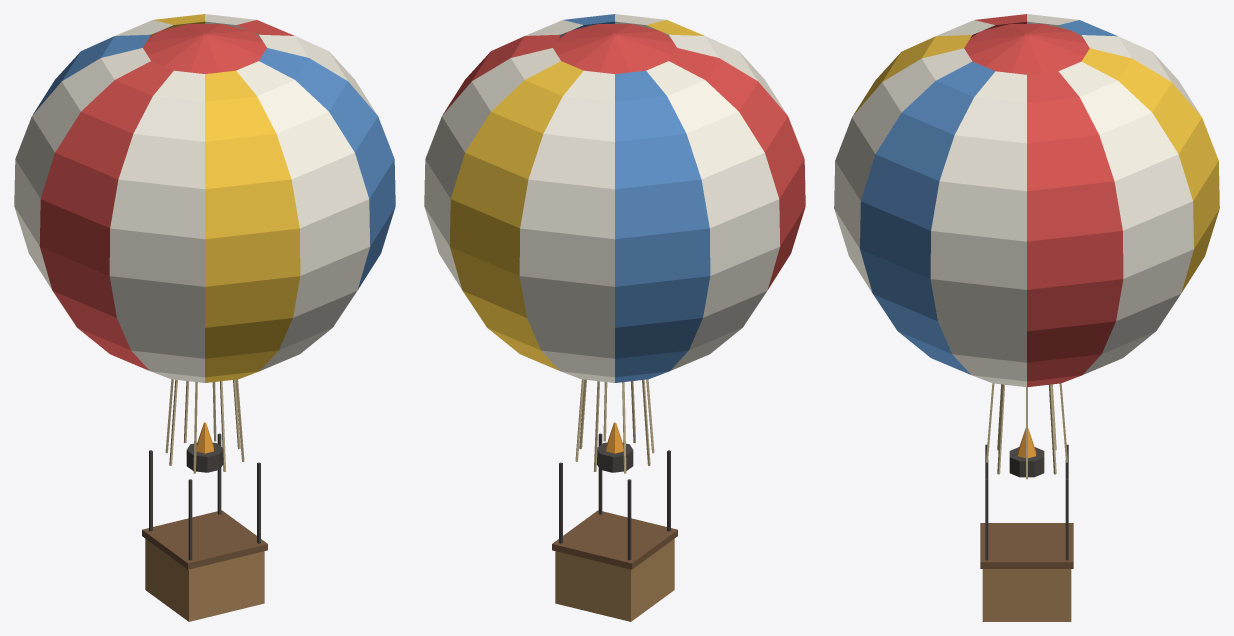
Rendered from balloon.glb.
3 renders of one model, left to right at view 1: azimuth 30°, elevation 25°; view 2: azimuth 150°, elevation 25°; view 3: azimuth 270°, elevation 25°, orthographic.
Parts seen in each view (by area): view 1: balloon-envelope-cream, balloon-envelope-yellow, balloon-envelope-red, balloon-envelope-blue, balloon-basket-wicker, balloon-basket-rim, balloon-basket-iron, balloon-envelope-rope; view 2: balloon-envelope-cream, balloon-envelope-blue, balloon-envelope-yellow, balloon-envelope-red, balloon-basket-wicker, balloon-basket-rim, balloon-basket-iron, balloon-envelope-rope; view 3: balloon-envelope-cream, balloon-envelope-red, balloon-envelope-blue, balloon-envelope-yellow, balloon-basket-wicker, balloon-basket-rim, balloon-basket-iron, balloon-envelope-rope.
Boxes of the visible parts, x1,y1,x2,y2 form: balloon-envelope-cream: (14, 14, 376, 382); balloon-envelope-yellow: (149, 14, 300, 382); balloon-envelope-red: (39, 20, 294, 370); balloon-envelope-blue: (33, 34, 395, 289); balloon-basket-wicker: (145, 539, 264, 621); balloon-basket-rim: (142, 510, 267, 569); balloon-basket-iron: (149, 433, 260, 560); balloon-envelope-rope: (165, 379, 244, 473); balloon-envelope-cream: (424, 14, 786, 382); balloon-envelope-blue: (559, 14, 710, 382); balloon-envelope-yellow: (449, 20, 704, 370); balloon-envelope-red: (443, 24, 805, 289); balloon-basket-wicker: (555, 539, 674, 621); balloon-basket-rim: (552, 510, 677, 569); balloon-basket-iron: (559, 433, 670, 560); balloon-envelope-rope: (575, 379, 654, 473); balloon-envelope-cream: (834, 14, 1201, 387); balloon-envelope-red: (964, 14, 1123, 387); balloon-envelope-blue: (860, 20, 1117, 374); balloon-envelope-yellow: (852, 35, 1219, 292); balloon-basket-wicker: (982, 569, 1071, 621); balloon-basket-rim: (980, 523, 1073, 568); balloon-basket-iron: (985, 444, 1068, 560); balloon-envelope-rope: (986, 383, 1067, 479).
Bounding box in the file's own units: 6.55 × 10.64 × 6.55.
